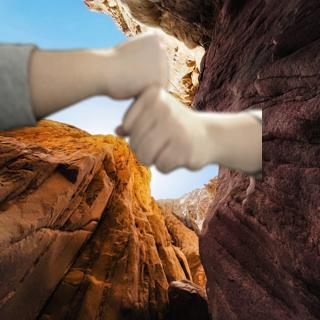CAREFUL: (46, 34, 262, 177)
